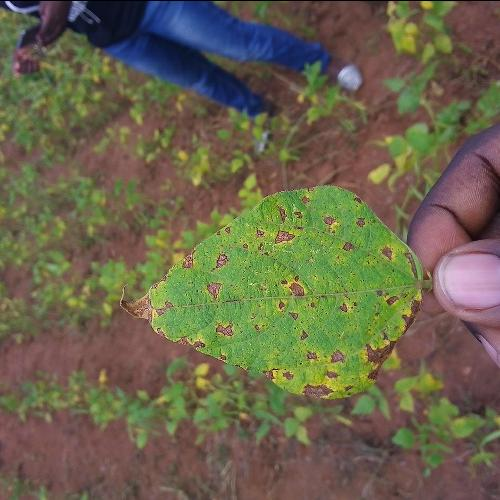hawar: (128, 181, 404, 398)
